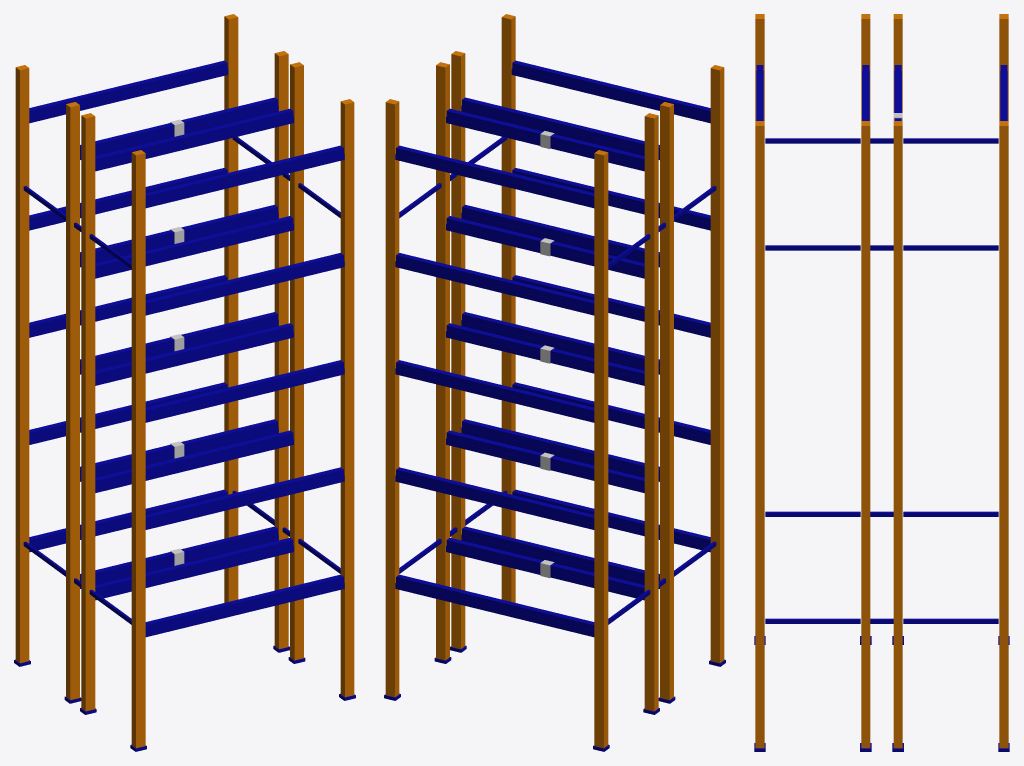
File: high-duty-C23-5-pair.glb
3 views of the same model, side by side, from view 1: azimuth 30°, elevation 25°; view 2: azimuth 150°, elevation 25°; view 3: azimuth 270°, elevation 25° (orthographic). The views are drawn at different scales.
Visible parts, largest first — view 1: group2_geometry_0, group1_geometry_4, group2_geometry_4, group2_geometry_2, group1_geometry_0, group2_geometry_6, group1_geometry_2, group1_geometry_6, group2_geometry_12, group2_geometry_16, group2_geometry_20, group2_geometry_24 (+32 smaller); view 2: group1_geometry_4, group2_geometry_0, group1_geometry_0, group1_geometry_6, group2_geometry_4, group1_geometry_2, group2_geometry_6, group2_geometry_2, group1_geometry_15, group1_geometry_20, group1_geometry_25, group1_geometry_30 (+32 smaller); view 3: group1_geometry_6, group2_geometry_2, group1_geometry_2, group2_geometry_6, group1_geometry_4, group2_geometry_0, group2_geometry_4, group1_geometry_0, group1_geometry_33, group1_geometry_34, group1_geometry_35, group1_geometry_36 (+7 smaller).
Part boxes in pixels (bbox=[...]): group2_geometry_0: bbox=[131, 150, 145, 748]; group1_geometry_4: bbox=[15, 65, 29, 663]; group2_geometry_4: bbox=[81, 113, 95, 711]; group2_geometry_2: bbox=[340, 99, 354, 697]; group1_geometry_0: bbox=[66, 102, 79, 699]; group2_geometry_6: bbox=[290, 62, 303, 660]; group1_geometry_2: bbox=[274, 51, 288, 649]; group1_geometry_6: bbox=[224, 14, 238, 602]; group2_geometry_12: bbox=[145, 467, 343, 523]; group2_geometry_16: bbox=[145, 360, 343, 416]; group2_geometry_20: bbox=[145, 253, 343, 309]; group2_geometry_24: bbox=[145, 145, 343, 201]; group1_geometry_4: bbox=[594, 150, 608, 748]; group2_geometry_0: bbox=[710, 65, 724, 663]; group1_geometry_0: bbox=[644, 113, 658, 711]; group1_geometry_6: bbox=[385, 99, 399, 697]; group2_geometry_4: bbox=[660, 102, 673, 699]; group1_geometry_2: bbox=[436, 62, 449, 660]; group2_geometry_6: bbox=[451, 51, 465, 649]; group2_geometry_2: bbox=[501, 14, 515, 602]; group1_geometry_15: bbox=[396, 467, 594, 523]; group1_geometry_20: bbox=[396, 360, 594, 416]; group1_geometry_25: bbox=[396, 253, 594, 309]; group1_geometry_30: bbox=[396, 145, 594, 201]; group1_geometry_6: bbox=[999, 121, 1008, 748]; group2_geometry_2: bbox=[755, 121, 764, 748]; group1_geometry_2: bbox=[893, 121, 902, 748]; group2_geometry_6: bbox=[861, 121, 870, 748]; group1_geometry_4: bbox=[999, 14, 1008, 120]; group2_geometry_0: bbox=[755, 14, 764, 120]; group2_geometry_4: bbox=[861, 14, 870, 120]; group1_geometry_0: bbox=[893, 14, 902, 112]; group1_geometry_33: bbox=[903, 511, 998, 516]; group1_geometry_34: bbox=[903, 138, 998, 143]; group1_geometry_35: bbox=[903, 618, 998, 623]; group1_geometry_36: bbox=[903, 245, 998, 250].
Size of the model in its own units: 2320 by 6000 by 2220.
